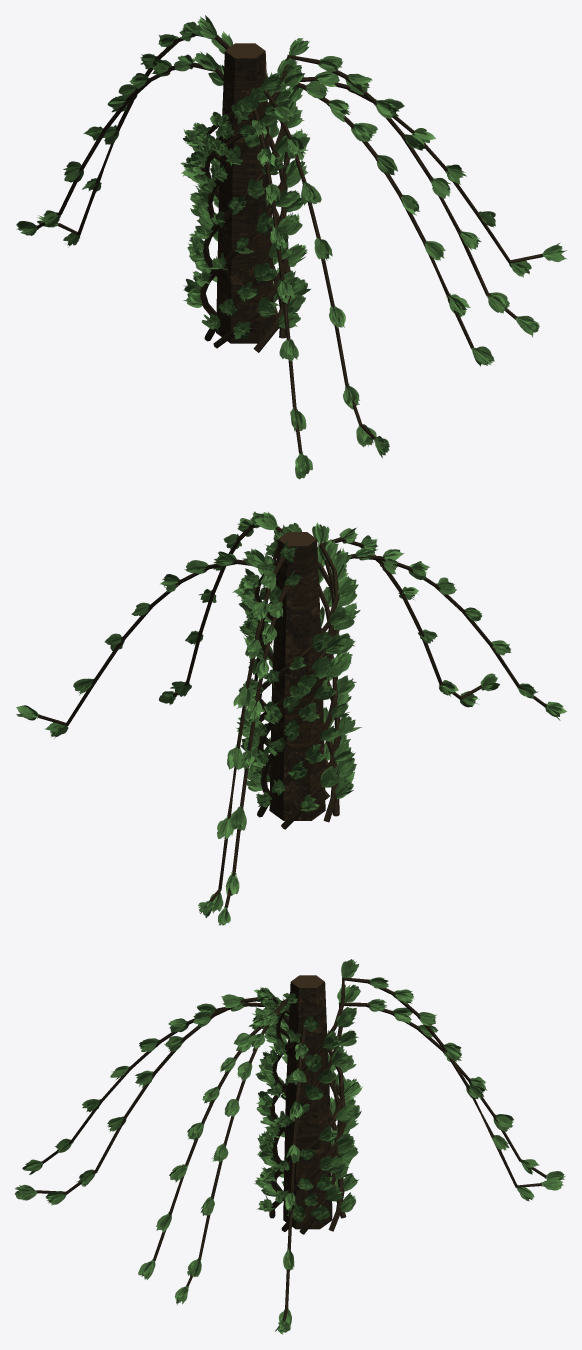
The model's file is liana_cluster_v01.glb.
The picture shows the model from 3 angles, top to bottom: view 1: azimuth 30°, elevation 25°; view 2: azimuth 150°, elevation 25°; view 3: azimuth 270°, elevation 25°; orthographic projection. The views are drawn at different scales.
Visible parts, largest first — view 1: liana_cluster_v01; view 2: liana_cluster_v01; view 3: liana_cluster_v01.
Part boxes in pixels (box(x1,y1,x2,y2)): liana_cluster_v01: box(16, 15, 566, 479); liana_cluster_v01: box(16, 511, 566, 925); liana_cluster_v01: box(15, 959, 565, 1334).
Bounding box in the file's own units: 1.5 × 1.04 × 2.02.
Materials: 2 (2 with a texture image).
